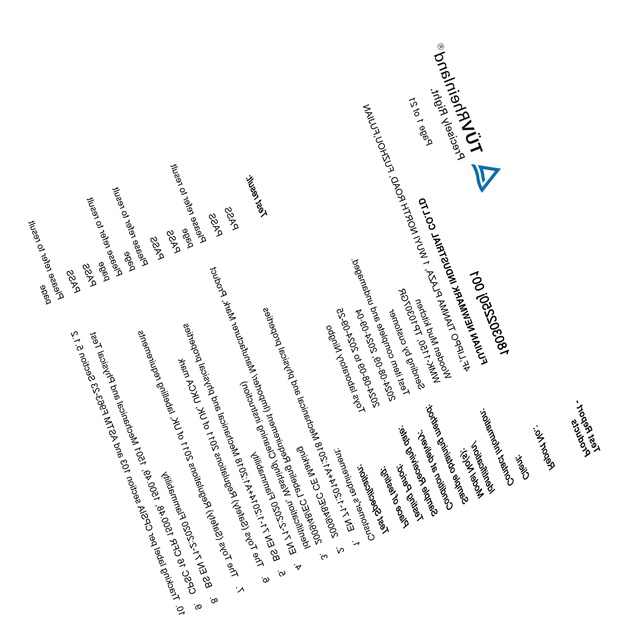tuv_rheinland: (433, 37, 503, 195)
